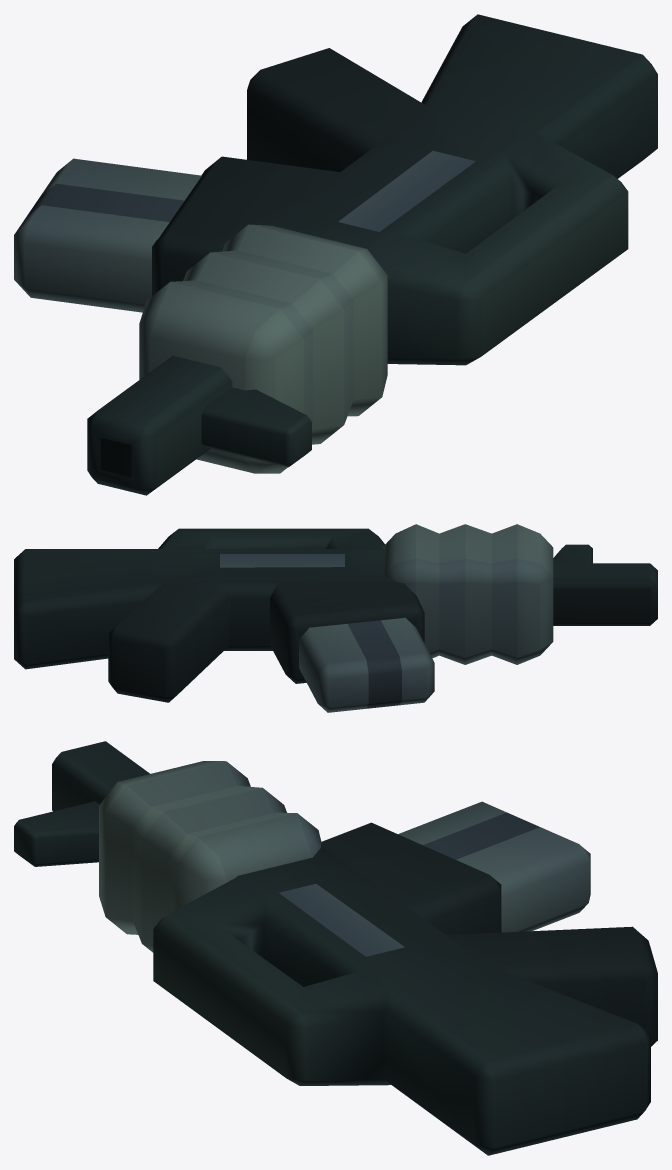
The model's file is m16_rifle.fbx.
The picture shows the model from 3 angles, top to bottom: view 1: azimuth 30°, elevation 25°; view 2: azimuth 150°, elevation 25°; view 3: azimuth 270°, elevation 25°; orthographic projection. The views are drawn at different scales.
Visible parts, largest first — view 1: m16_rifle; view 2: m16_rifle; view 3: m16_rifle.
Boxes of the visible parts, x1=… form: m16_rifle: x1=14, y1=14, x2=657, y2=495; m16_rifle: x1=14, y1=524, x2=657, y2=712; m16_rifle: x1=14, y1=741, x2=657, y2=1155.
Size of the model in its own units: 88.55 by 17.9 by 70.17.
Materials: 1 (1 with a texture image).
